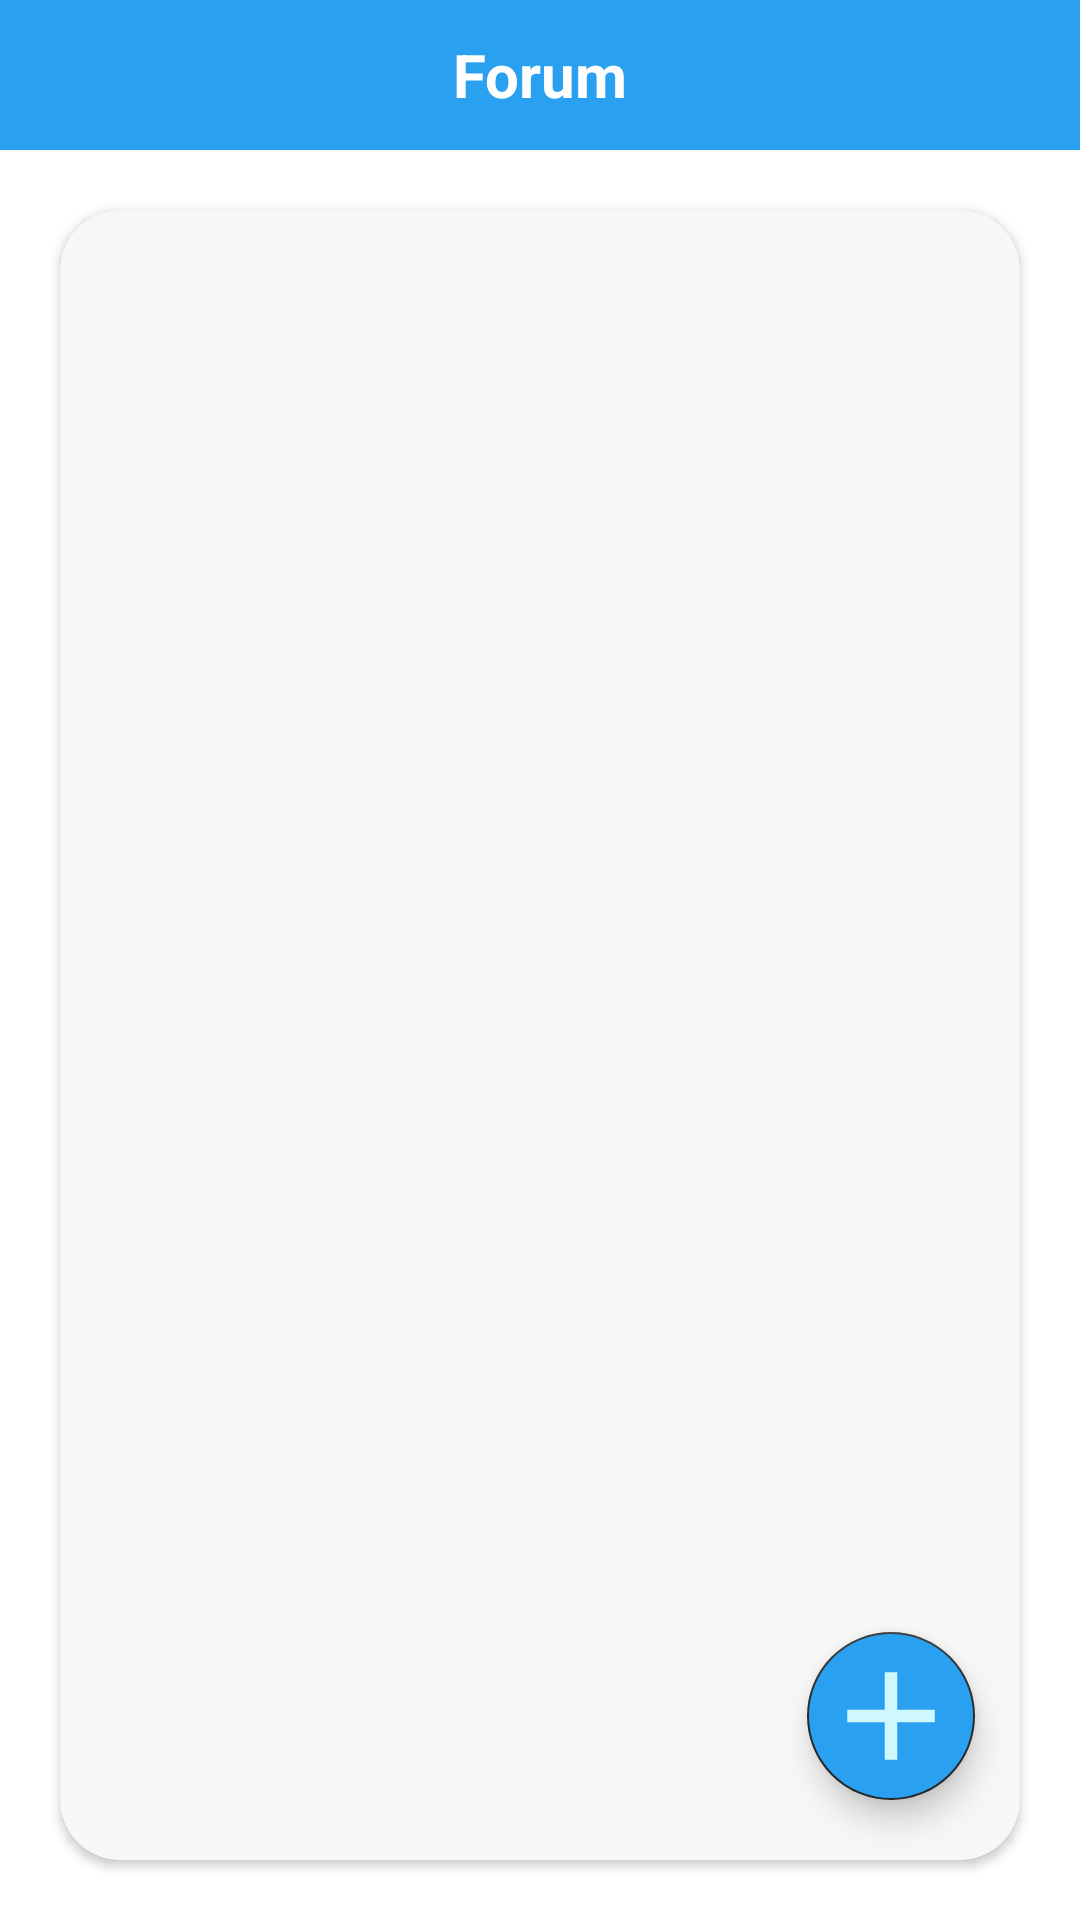

Icon click points for this 1080w x 1920h phone screenshot, format [x,y]:
Add forum: [891,1716]
